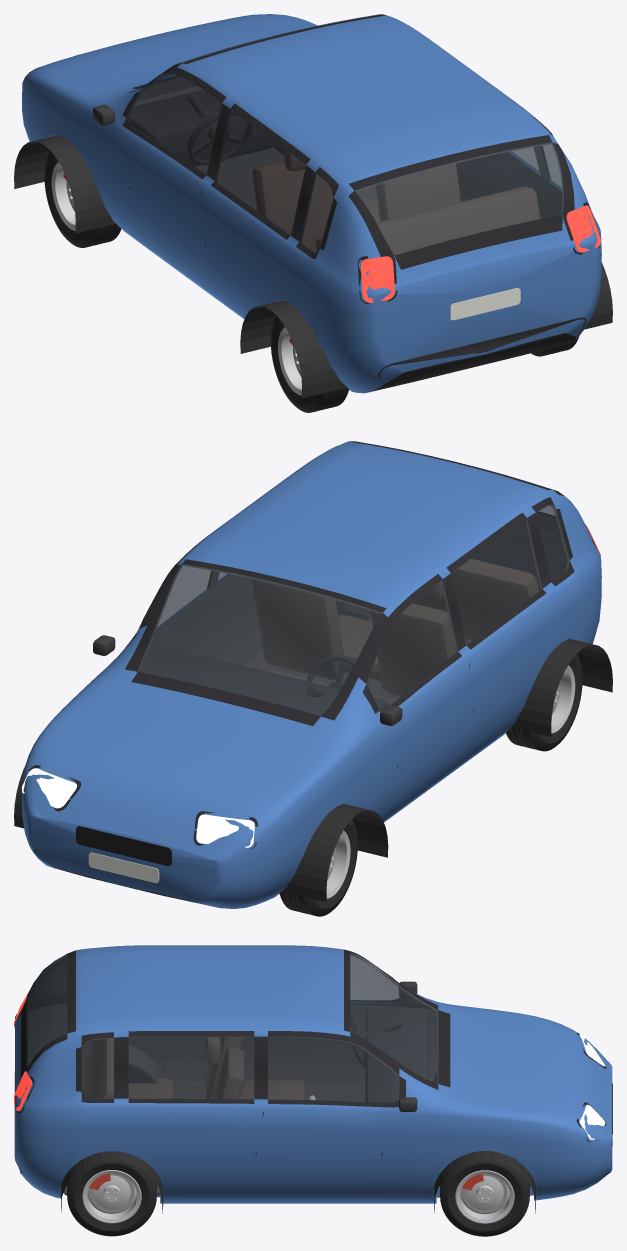
Rendered from t_compact.glb.
3 views of the same model, one above another, from view 1: azimuth 30°, elevation 25°; view 2: azimuth 150°, elevation 25°; view 3: azimuth 270°, elevation 25° (orthographic). The views are drawn at different scales.
Parts seen in each view (by area): view 1: Body.001, Glass.001, Interior.001, ArchLiners.001, Interior_Shell.001, Wheel_RL.001, Wheel_FL.001, Lights_Tail.001, Bumper_Rear, SteeringWheel.001, Plate_Rear.001; view 2: Body.001, Glass.001, Interior.001, Interior_Shell.001, ArchLiners.001, Wheel_FL.001, Wheel_RL.001, Lights_Head.001, Grille, Plate_Front.001, SteeringWheel.001, Mirror_Housing.001; view 3: Body.001, Glass.001, Interior_Shell.001, Interior.001, Wheel_RR.001, Wheel_FR.001, ArchLiners.001, SteeringWheel.001, Lights_Head.001, Lights_Tail.001, Mirror_Housing.001.
Part boxes in pixels (left/top/right/bottom): Body.001: left=22, top=14, right=601, bottom=393; Glass.001: left=126, top=14, right=563, bottom=255; Interior.001: left=128, top=90, right=540, bottom=255; ArchLiners.001: left=14, top=135, right=612, bottom=398; Interior_Shell.001: left=126, top=73, right=563, bottom=254; Wheel_RL.001: left=270, top=315, right=349, bottom=412; Wheel_FL.001: left=44, top=150, right=121, bottom=247; Lights_Tail.001: left=360, top=205, right=600, bottom=302; Bumper_Rear: left=378, top=317, right=586, bottom=381; SteeringWheel.001: left=187, top=93, right=252, bottom=165; Plate_Rear.001: left=450, top=288, right=520, bottom=320; Body.001: left=22, top=441, right=601, bottom=908; Glass.001: left=137, top=488, right=569, bottom=716; Interior.001: left=139, top=558, right=538, bottom=716; Interior_Shell.001: left=138, top=504, right=569, bottom=675; ArchLiners.001: left=14, top=600, right=612, bottom=902; Wheel_FL.001: left=279, top=819, right=357, bottom=916; Wheel_RL.001: left=506, top=654, right=582, bottom=751; Lights_Head.001: left=22, top=768, right=254, bottom=847; Grille: left=76, top=826, right=171, bottom=866; Plate_Front.001: left=88, top=852, right=159, bottom=883; SteeringWheel.001: left=305, top=655, right=370, bottom=697; Mirror_Housing.001: left=93, top=635, right=402, bottom=725; Body.001: left=15, top=945, right=612, bottom=1203; Glass.001: left=26, top=951, right=438, bottom=1102; Interior_Shell.001: left=26, top=953, right=438, bottom=1099; Interior.001: left=64, top=1008, right=429, bottom=1195; Wheel_RR.001: left=67, top=1160, right=156, bottom=1236; Wheel_FR.001: left=440, top=1160, right=529, bottom=1236; ArchLiners.001: left=61, top=1065, right=535, bottom=1213; SteeringWheel.001: left=350, top=1013, right=402, bottom=1067; Lights_Head.001: left=579, top=1034, right=605, bottom=1139; Lights_Tail.001: left=14, top=990, right=31, bottom=1110; Mirror_Housing.001: left=399, top=981, right=417, bottom=1111.
Size of what is drawn, in the model's own units: 1.96 by 1.47 by 3.94.
